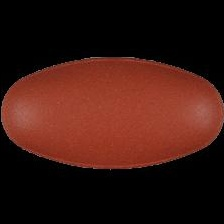54868-5320: (0, 0, 224, 224)
